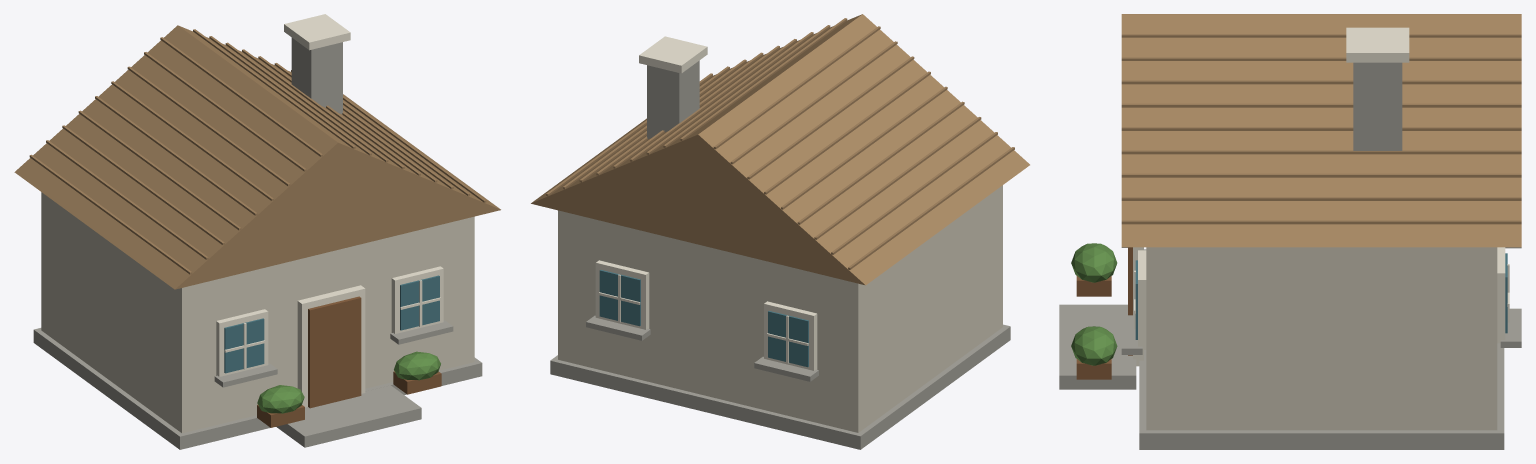
The model's file is cottage-1.glb.
3 renders of one model, left to right at view 1: azimuth 30°, elevation 25°; view 2: azimuth 150°, elevation 25°; view 3: azimuth 270°, elevation 25°, orthographic. The views are drawn at different scales.
Parts seen in each view (by area): view 1: cottage-1; view 2: cottage-1; view 3: cottage-1.
Boxes of the visible parts, x1,y1,x2,y2 form: cottage-1: (14,14,500,449); cottage-1: (531,14,1029,449); cottage-1: (1059,14,1521,449).
Size of the model in its own units: 6.7 by 5.77 by 6.59.
